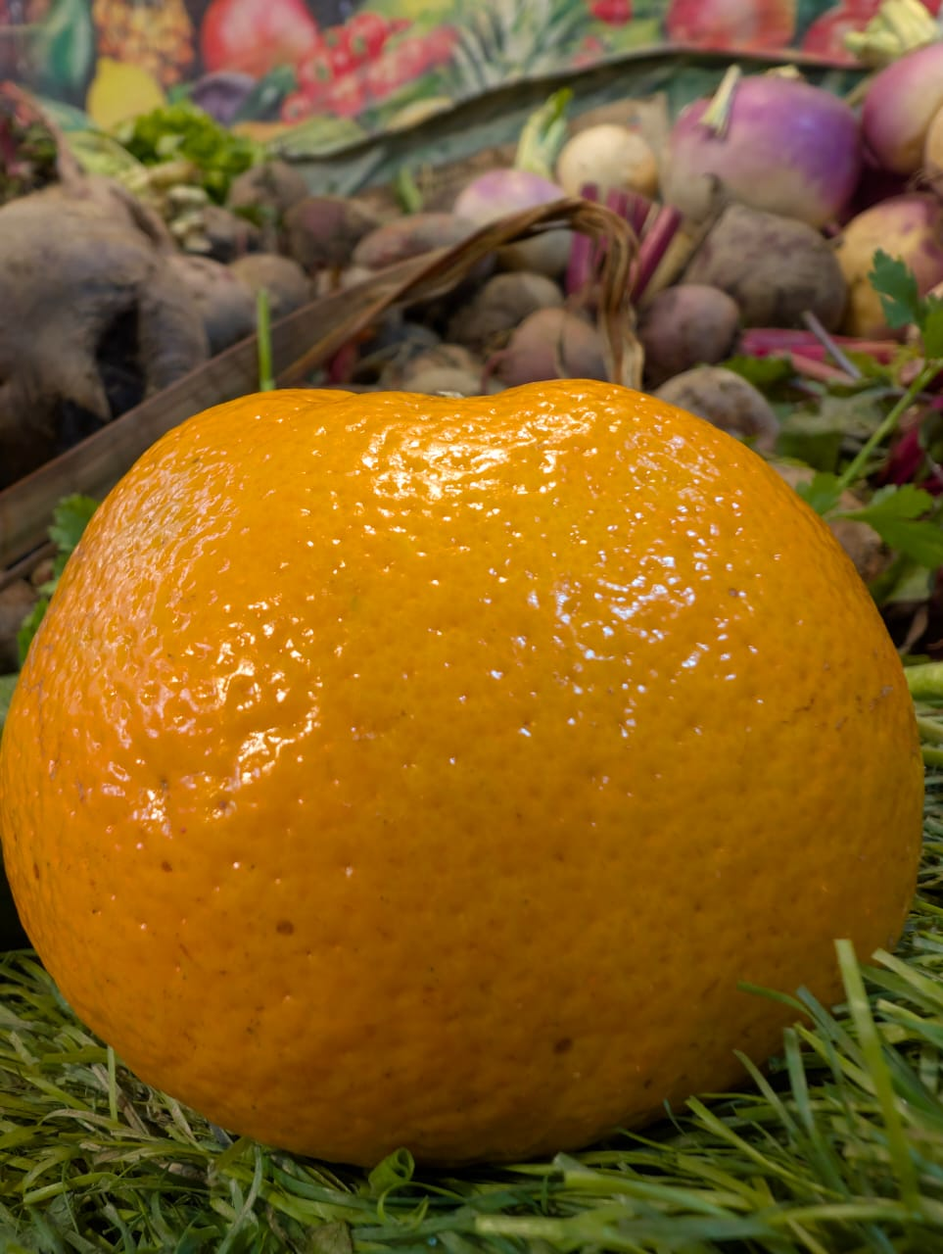orange: (95, 145, 909, 900)
